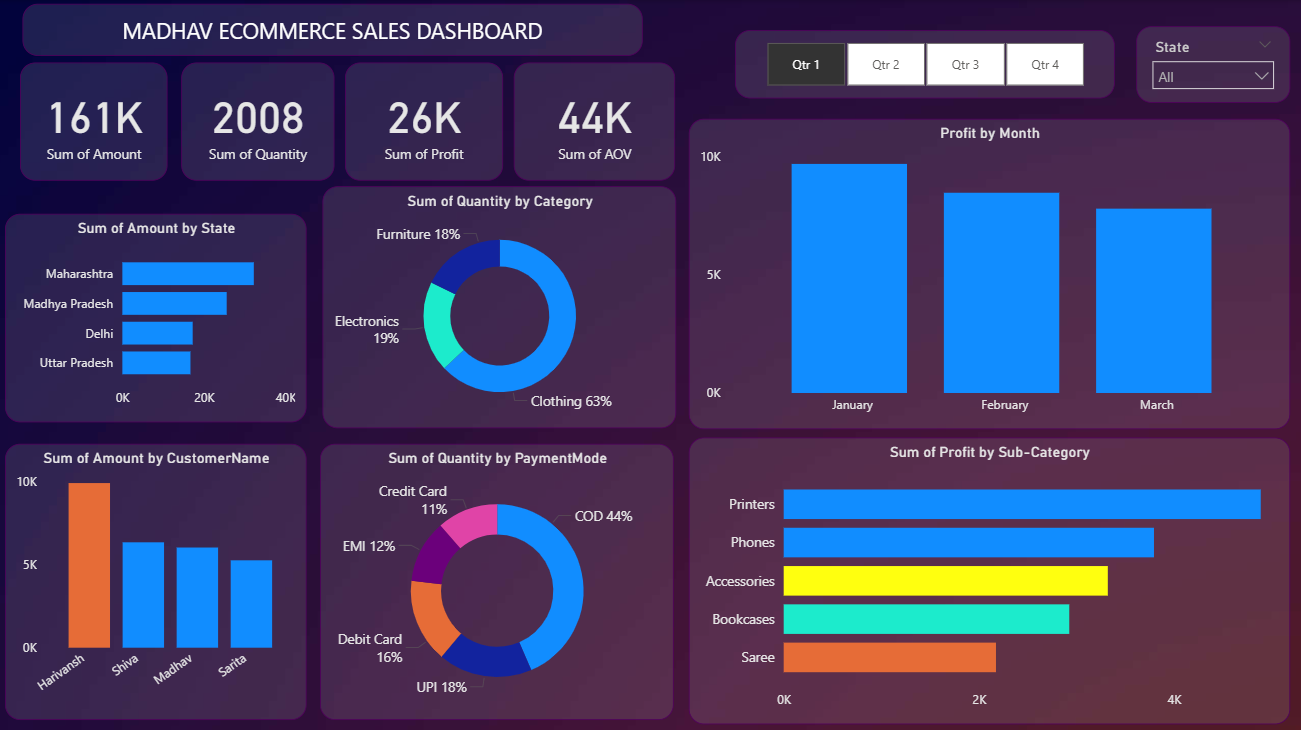

This screenshot's page, from the dashboard's own definition file:
{"tool":"powerbi","page":{"name":"Page 1","canvas":[1280,720],"ordinal":0},"visuals":[{"type":"columnChart","title":"Profit by Month","fields":{"Y":["Sum(Details.Profit)"],"Category":["Orders.Order Date.Variation.Date Hierarchy.Month"]},"box":[676.2,116.2,590,305],"z":0},{"type":"barChart","fields":{"Category":["Details.Sub-Category"],"Y":["Sum(Details.Profit)"]},"box":[676.2,430,590,281.2],"z":1000},{"type":"donutChart","fields":{"Category":["Details.Category"],"Y":["Sum(Details.Quantity)"]},"box":[316.2,182.5,347.5,237.5],"z":2000},{"type":"donutChart","fields":{"Category":["Details.PaymentMode"],"Y":["Sum(Details.Quantity)"]},"box":[313.8,435,347.5,271.2],"z":3000},{"type":"card","fields":{"Values":["Sum(Details.Amount)"]},"box":[20,61.5,145,116.2],"z":4000},{"type":"card","fields":{"Values":["Sum(Details.Quantity)"]},"box":[177.5,61.5,150,116.2],"z":5000},{"type":"card","fields":{"Values":["Sum(Details.Profit)"]},"box":[338.8,61.5,155,116.2],"z":6000},{"type":"card","fields":{"Values":["Sum(Details.AOV)"]},"box":[503.8,61.2,158.8,116.2],"z":7000},{"type":"barChart","fields":{"Category":["Orders.State"],"Y":["Sum(Details.Amount)"]},"box":[5,210,296.2,205],"z":8000},{"type":"columnChart","fields":{"Category":["Orders.CustomerName"],"Y":["Sum(Details.Amount)"]},"box":[5,435,296,271],"z":9000},{"type":"textbox","box":[22.5,3.8,608.8,51.2],"z":10000},{"type":"slicer","fields":{"Values":["Orders.Order Date.Variation.Date Hierarchy.Quarter"]},"box":[721.2,30,372.5,67.5],"z":11000},{"type":"slicer","fields":{"Values":["Orders.State"]},"box":[1115,26.2,151.2,75],"z":12000}]}

Visuals, with their boxes in screenshot pixels (x1, y1, x2, y2), scaled from the page's 1280x720 canvas onto the 1301x730 screenshot:
"Profit by Month" columnChart: <region>687, 118, 1287, 427</region>
barChart - Details.Sub-Category x Sum(Details.Profit): <region>687, 436, 1287, 721</region>
donutChart - Details.Category x Sum(Details.Quantity): <region>321, 185, 675, 426</region>
donutChart - Details.PaymentMode x Sum(Details.Quantity): <region>319, 441, 672, 716</region>
card - Sum(Details.Amount): <region>20, 62, 168, 180</region>
card - Sum(Details.Quantity): <region>180, 62, 333, 180</region>
card - Sum(Details.Profit): <region>344, 62, 502, 180</region>
card - Sum(Details.AOV): <region>512, 62, 673, 180</region>
barChart - Orders.State x Sum(Details.Amount): <region>5, 213, 306, 421</region>
columnChart - Orders.CustomerName x Sum(Details.Amount): <region>5, 441, 306, 716</region>
textbox: <region>23, 4, 642, 56</region>
slicer - Orders.Order Date.Variation.Date Hierarchy.Quarter: <region>733, 30, 1112, 99</region>
slicer - Orders.State: <region>1133, 27, 1287, 103</region>
